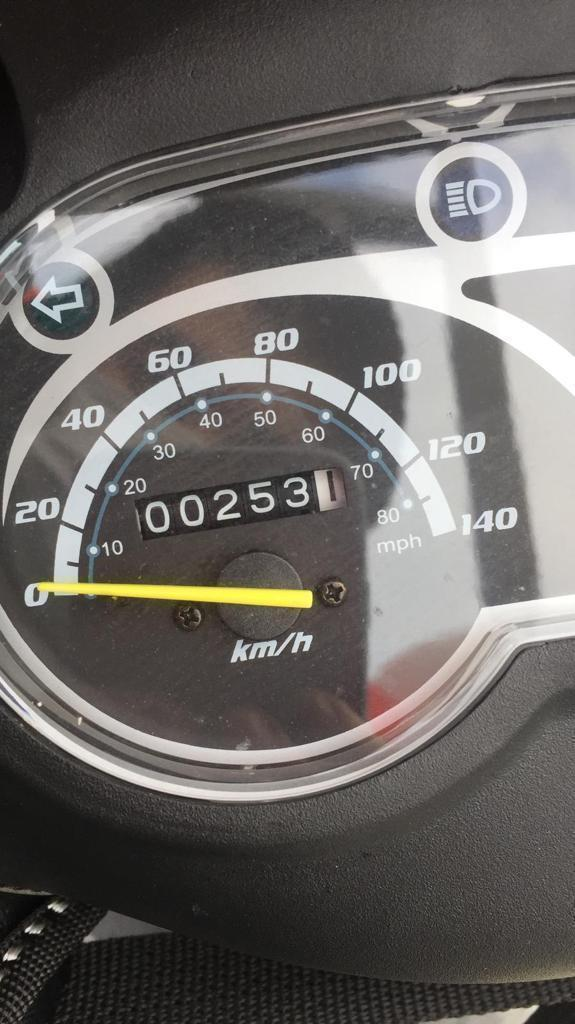0: (176, 492, 206, 527), (144, 499, 170, 533), (135, 477, 147, 493)
1: (323, 467, 339, 504)
2: (211, 487, 243, 522), (130, 480, 136, 495)
3: (280, 475, 311, 508)
5: (247, 479, 277, 515)
odometer: (130, 463, 351, 542)
